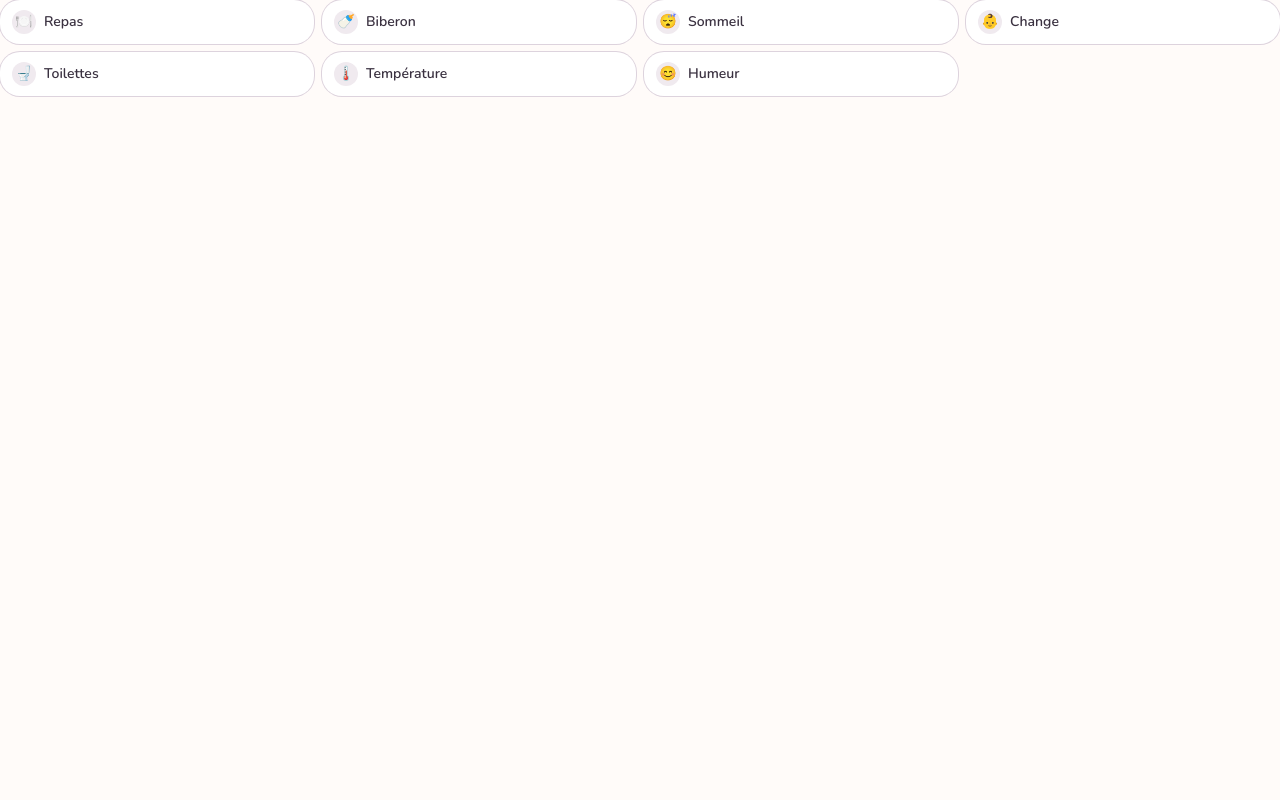
Test: recording a toilet visit › asks for the result instead of posting an empty payload
Step 1. Click the button "🚽 Toilettes" → (71, 74), box [0, 52, 314, 96]
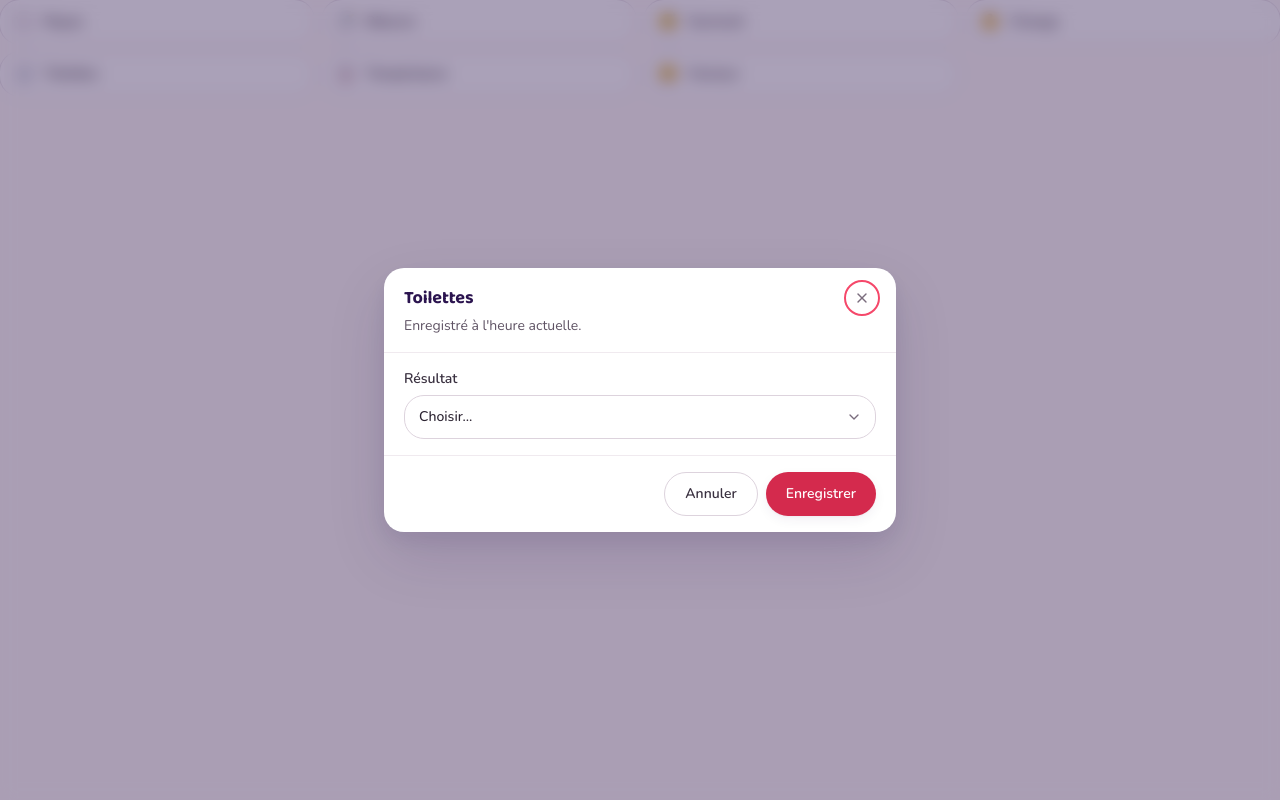
Now the dialog is shown, box [384, 268, 896, 532]
